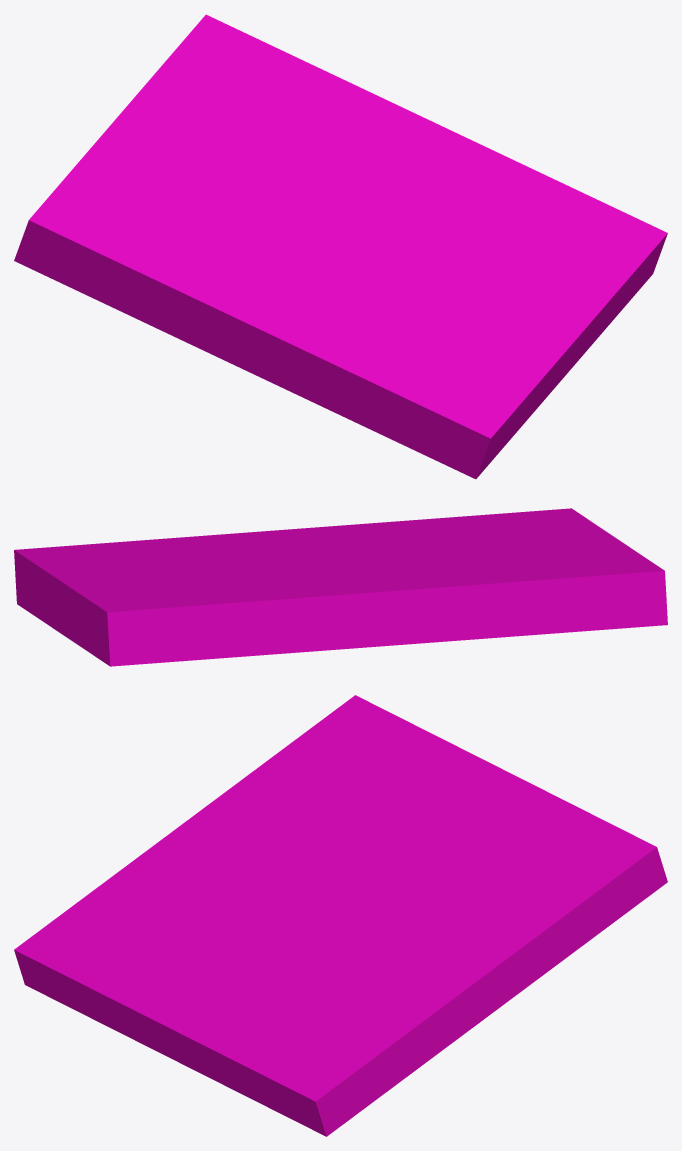
File: pinkPaper.fbx
3 renders of one model, top to bottom at view 1: azimuth 30°, elevation 25°; view 2: azimuth 150°, elevation 25°; view 3: azimuth 270°, elevation 25°, orthographic. The views are drawn at different scales.
Parts seen in each view (by area): view 1: Paper; view 2: Paper; view 3: Paper.
Boxes of the visible parts, <box> form: Paper: <box>14,14,667,479</box>; Paper: <box>14,508,667,666</box>; Paper: <box>14,695,667,1136</box>.
Bounding box in the file's own units: 0.746 × 0.217 × 0.7447.
